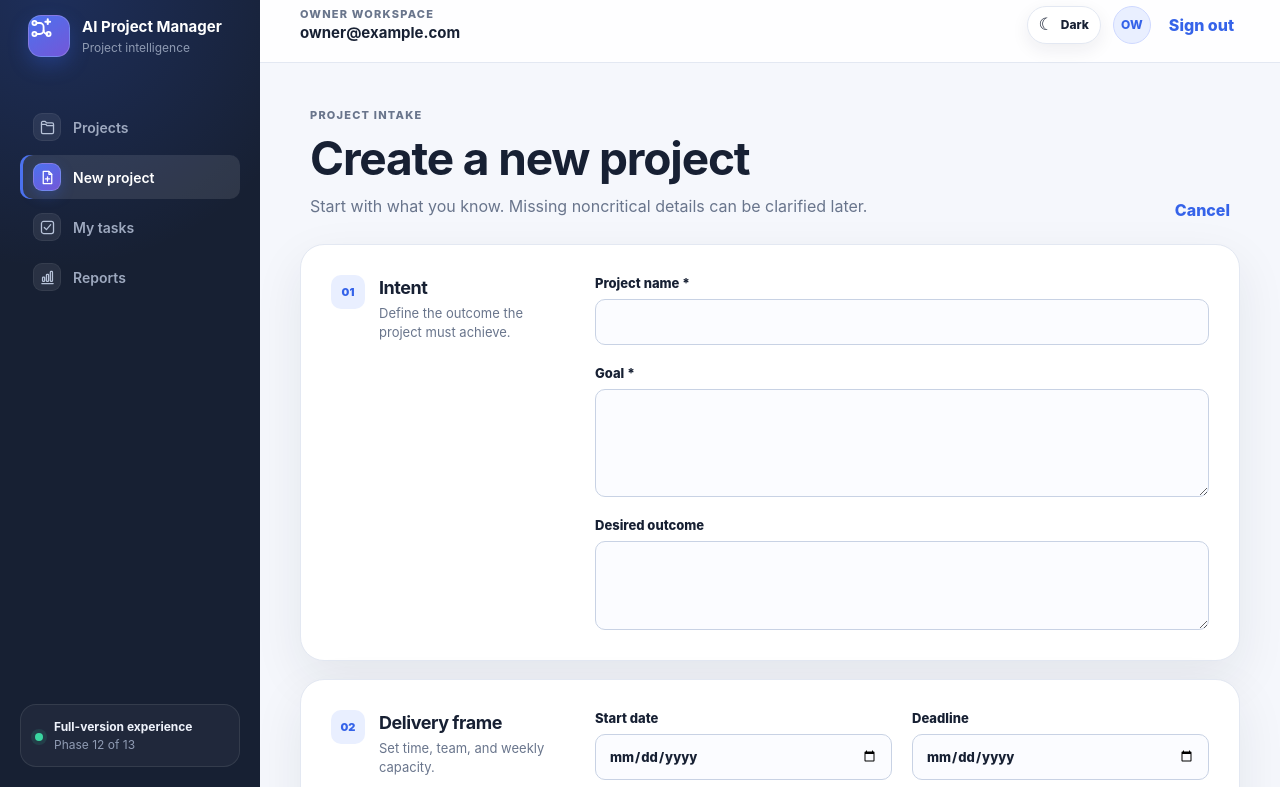
Test: planning and clarification experience › preserves a newly created project when planning admission fails
The image size is (1280, 787).
Type "Campus Services Portal" into the field labelled "Project name *" at [902, 322], box [595,299,1209,345]
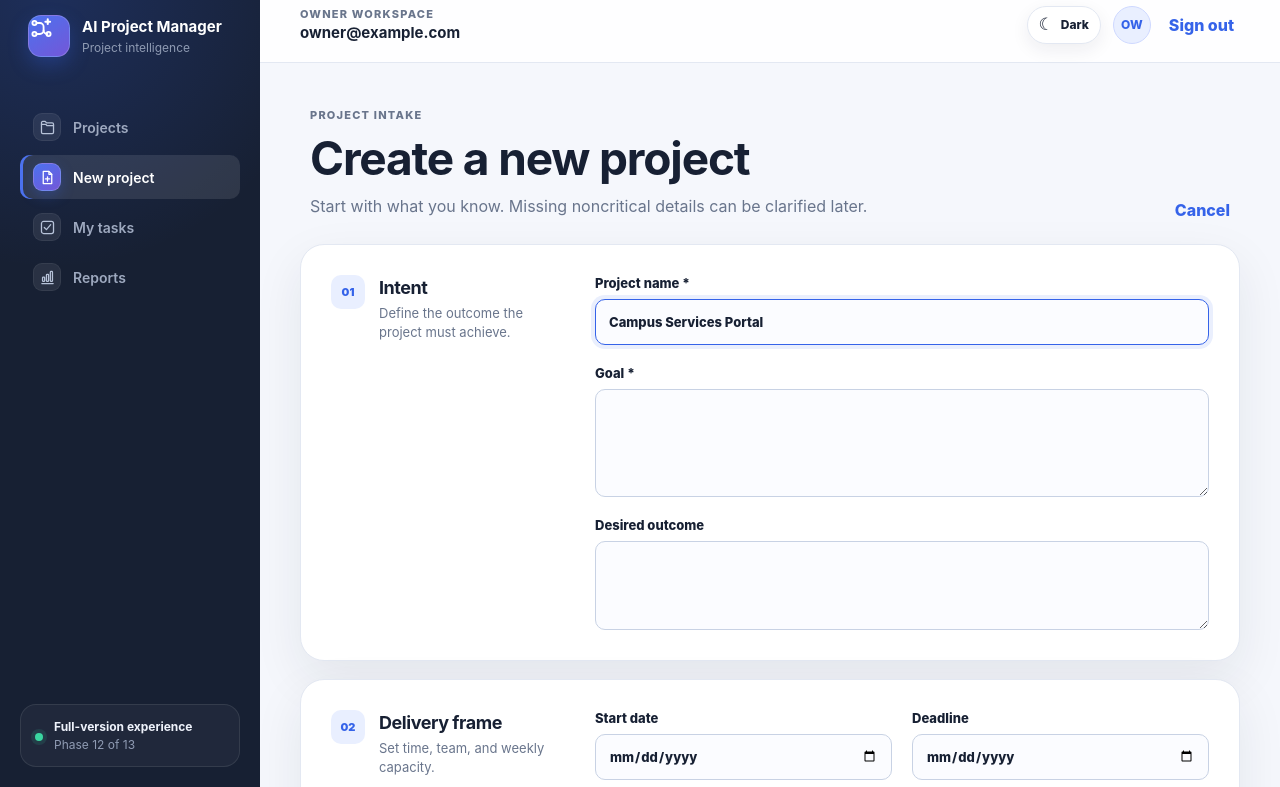
Type "Deliver an accessible portal for university service requests." into the text box labelled "Goal *" at [902, 443], box [595,389,1209,497]
(page scrolled)
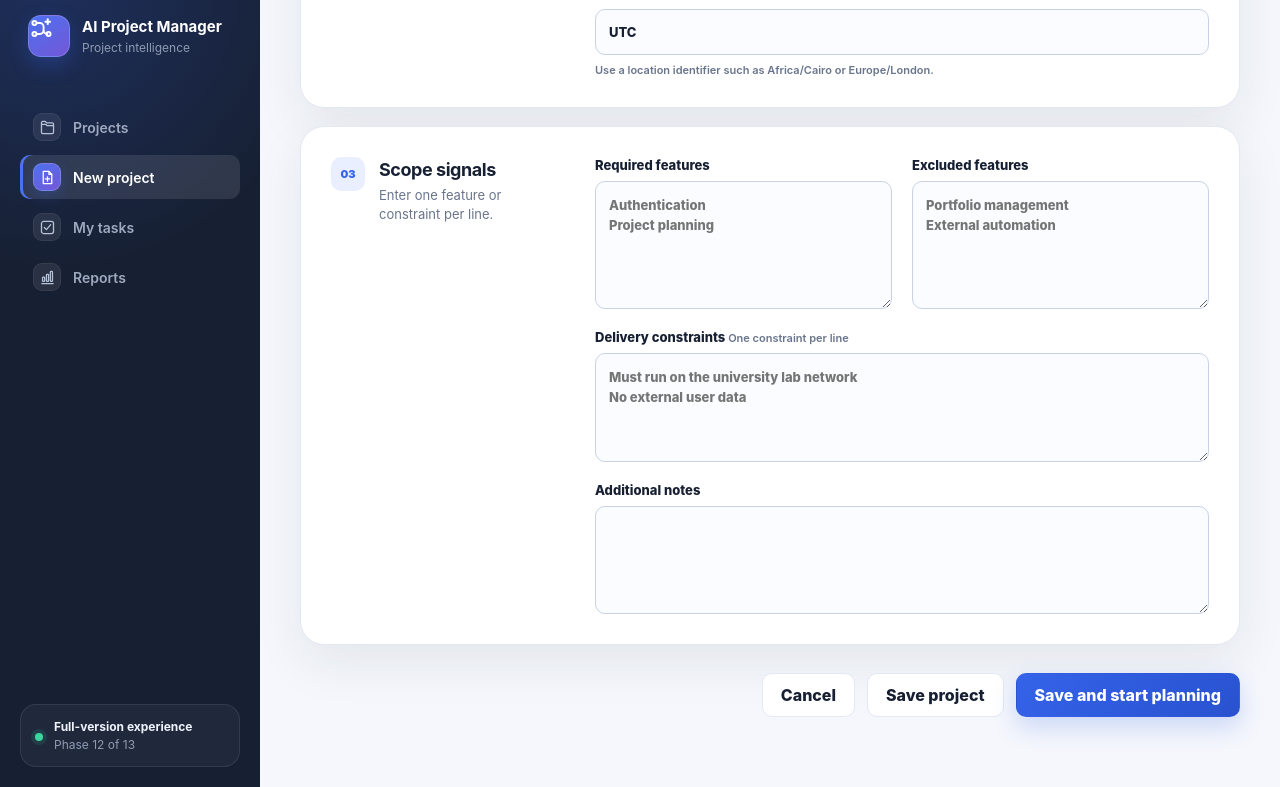
Click the button "Save and start planning" at [1128, 695], box [1016,673,1240,717]
(page scrolled)
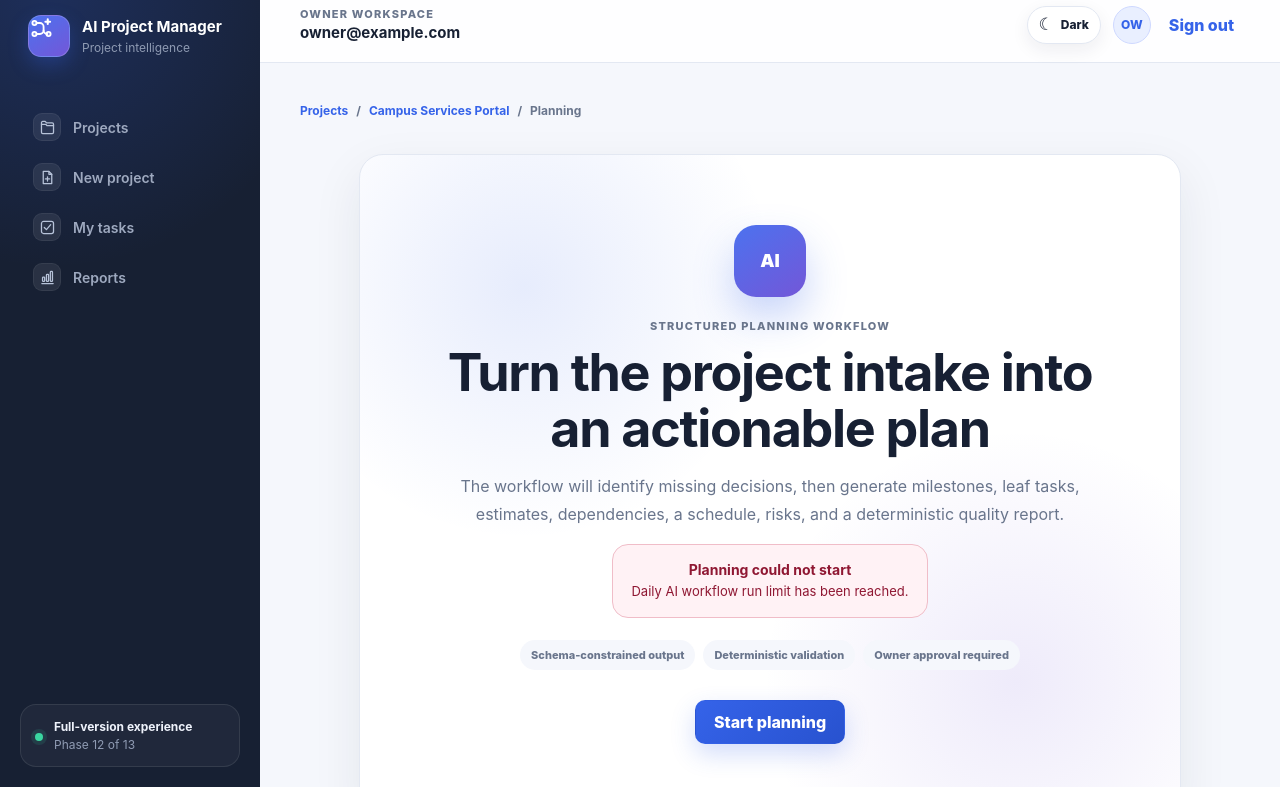
Expected: the button "Start planning" is shown, [695,700,845,744]
Result: the heading "Turn the project intake into an actionable plan" is shown at [430,345,1110,457]
Result: the text "Daily AI workflow run limit has been reached." is shown at [632,581,909,601]
